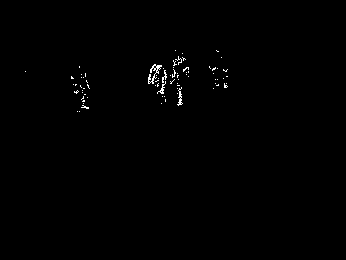person: (169, 52, 191, 108), (146, 61, 167, 102)
